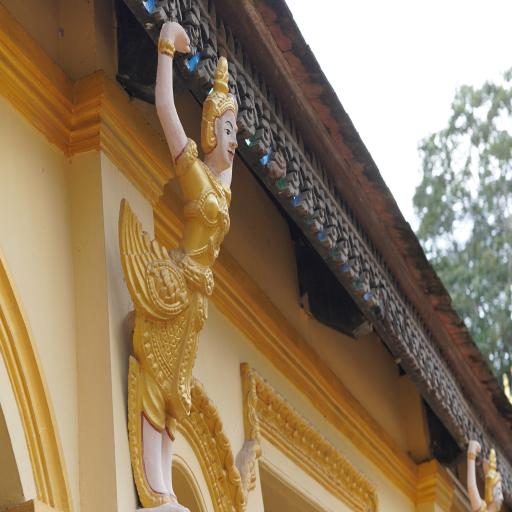than: (101, 1, 240, 512), (453, 418, 512, 512)
